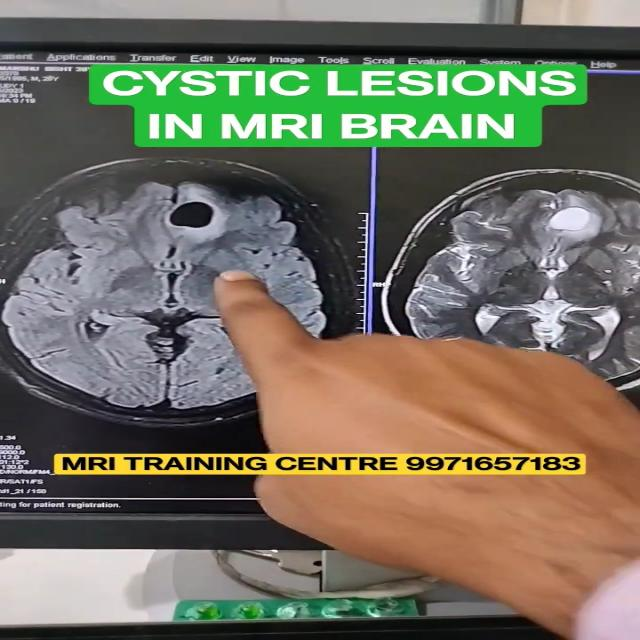tumor: (137, 197, 266, 255), (549, 202, 627, 277)
